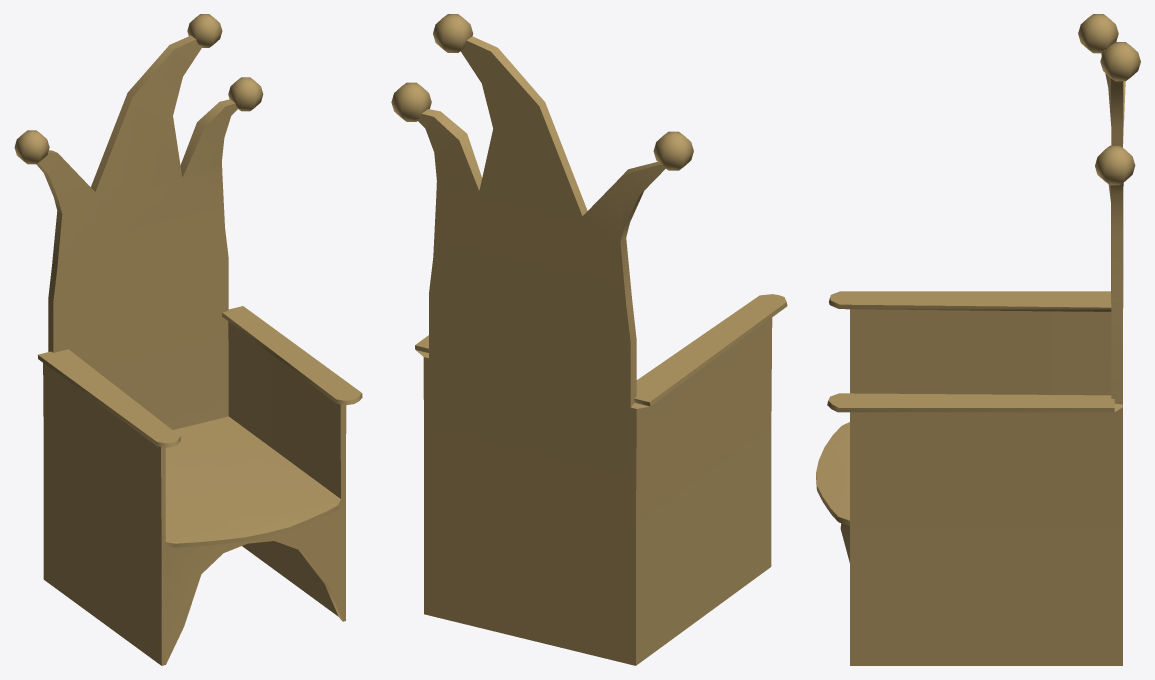
File: PartyChair.fbx
The picture shows the model from 3 angles, left to right: view 1: azimuth 30°, elevation 25°; view 2: azimuth 150°, elevation 25°; view 3: azimuth 270°, elevation 25°; orthographic projection. The views are drawn at different scales.
Parts seen in each view (by area): view 1: Cube.012; view 2: Cube.012; view 3: Cube.012.
Part boxes in pixels (<box>): Cube.012: <box>14,14,362,665</box>; Cube.012: <box>391,14,787,665</box>; Cube.012: <box>816,14,1140,665</box>.
Size of the model in its own units: 193 by 392 by 189.
